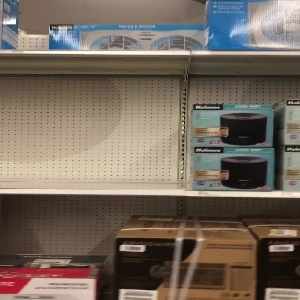void: (1, 58, 187, 191)
